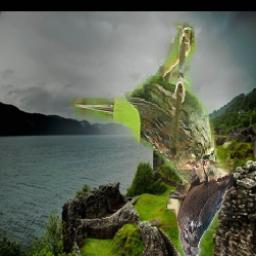Crow: (178, 160, 235, 256)
Sparrow: (70, 23, 229, 192)
